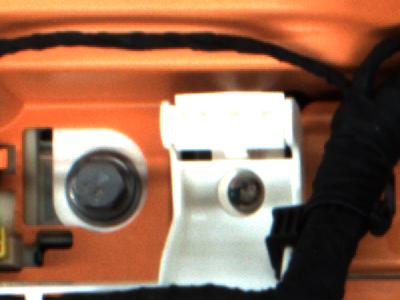nut_b: (66, 149, 144, 228)
